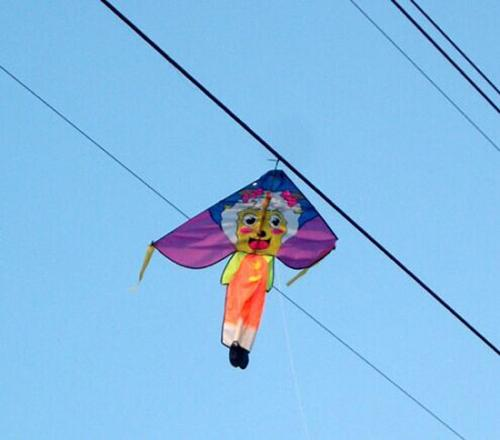kite: (130, 151, 342, 382)
